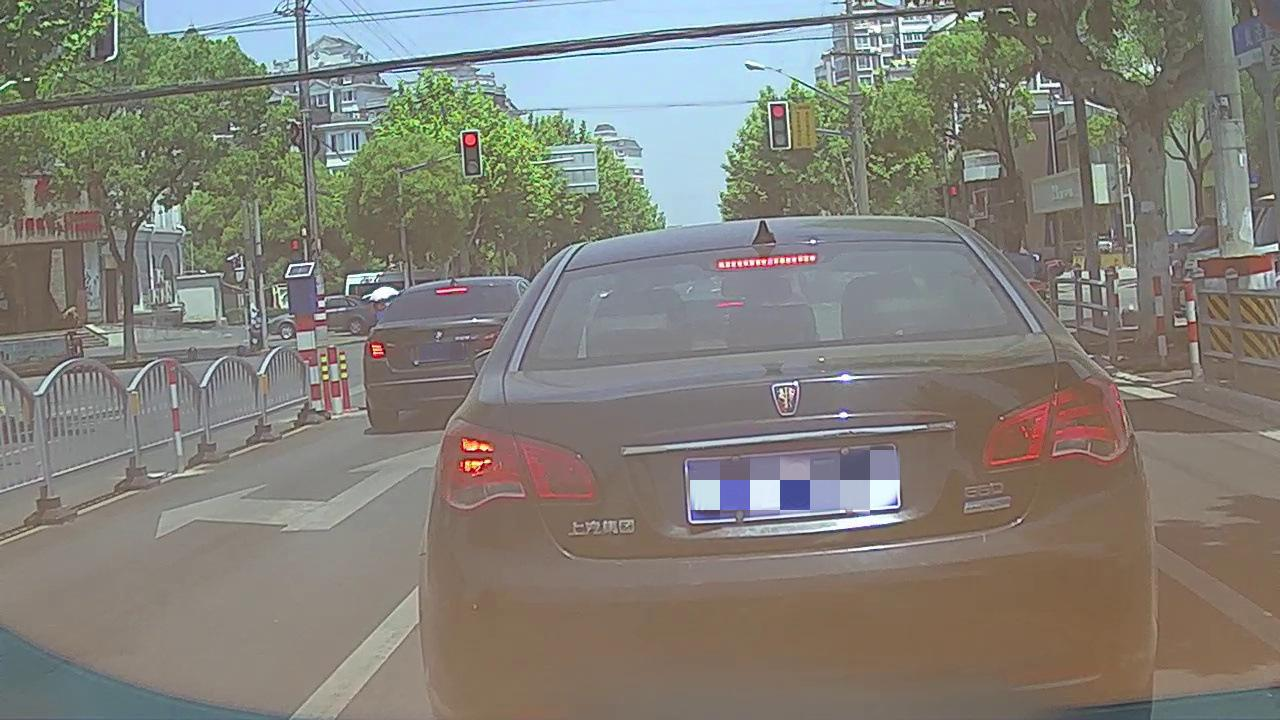traffic_light: (768, 103, 790, 149), (461, 131, 481, 175)
